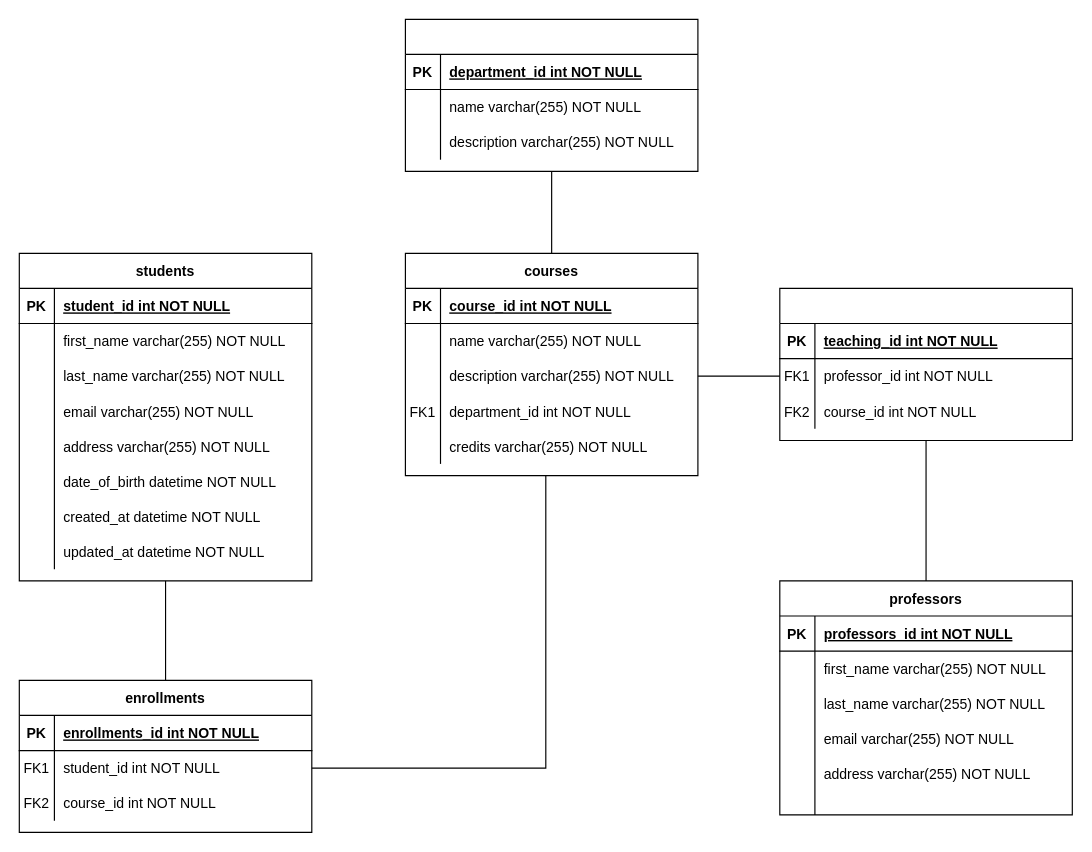
The diagram is 1092 pixels wide and 852 high, and some of its shapes have lost their labels. Here are the shapes that lost their labels. From the top down, the box of each, then its label:
(404, 18, 698, 171): departments
(779, 287, 1072, 441): teachings
